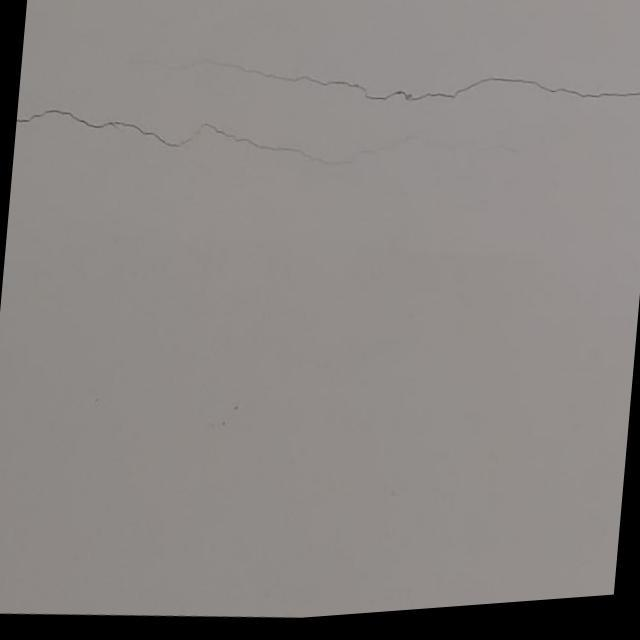Crack: (179, 50, 636, 109), (23, 105, 392, 162)
